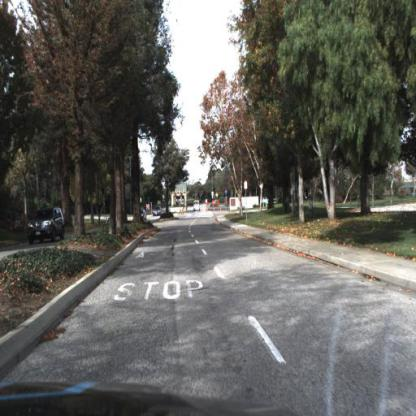biker: (181, 199, 188, 218)
car: (28, 205, 67, 245), (192, 199, 202, 215), (138, 209, 147, 221), (153, 206, 162, 218)
